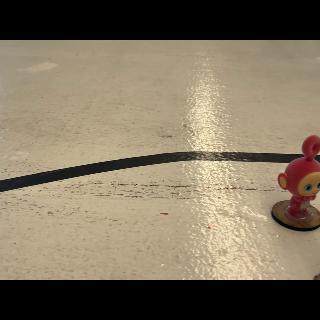teletubby: (278, 135, 320, 218)
